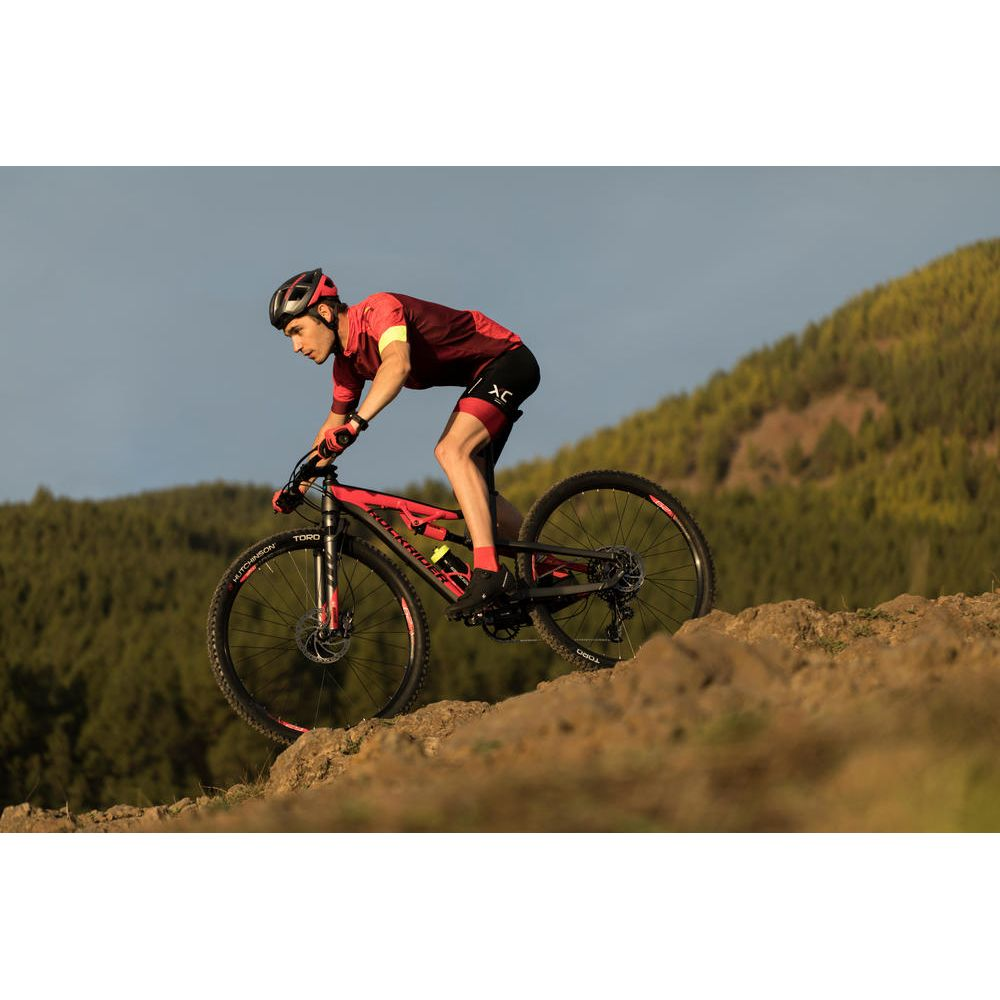RoadBike: (489, 471, 877, 780)
